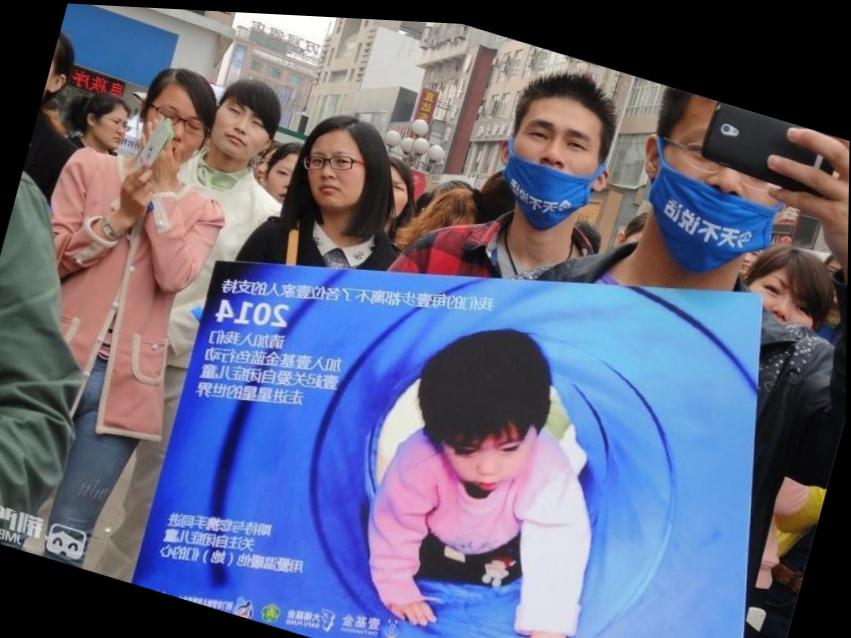NONE: (440, 399, 541, 503), (298, 133, 369, 209), (137, 91, 209, 165), (210, 96, 270, 158), (262, 152, 313, 209), (92, 109, 131, 152)
WRONG: (636, 110, 794, 276), (498, 96, 611, 213), (739, 260, 824, 344)
